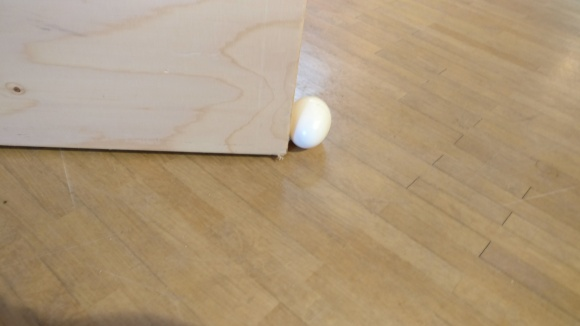egg: (291, 95, 333, 150)
